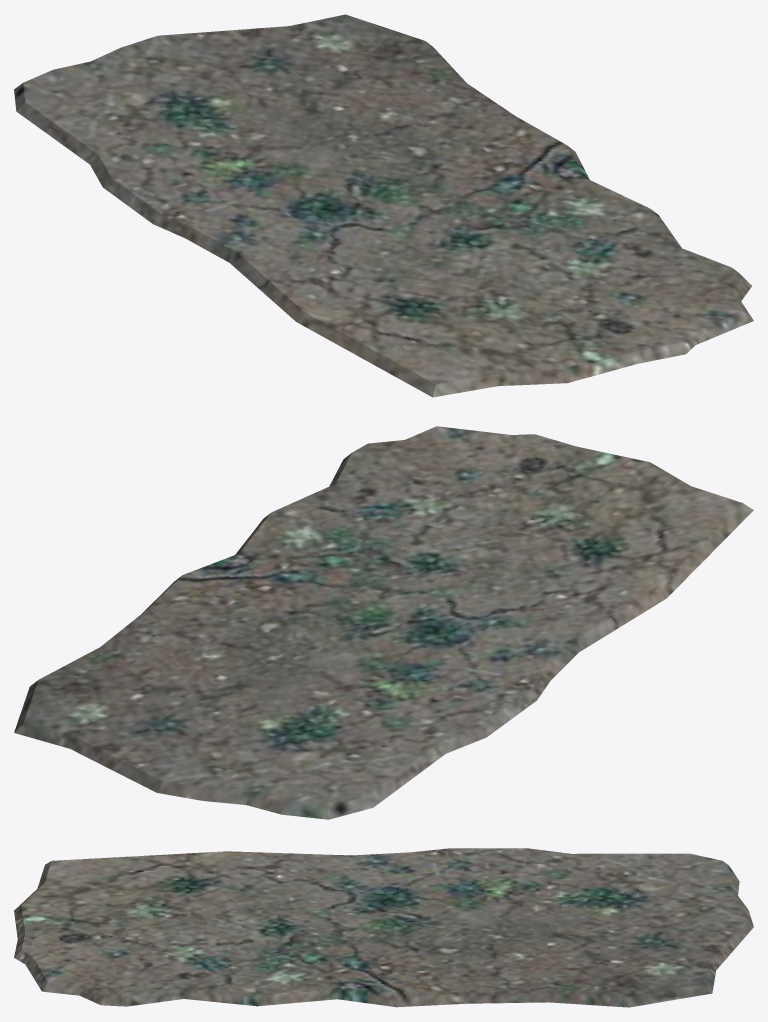
Rendered from cf_area_collision.obj.
The picture shows the model from 3 angles, top to bottom: view 1: azimuth 30°, elevation 25°; view 2: azimuth 150°, elevation 25°; view 3: azimuth 270°, elevation 25°; orthographic projection. The views are drawn at different scales.
Visible parts, largest first — view 1: terrain_collision_Plane.003; view 2: terrain_collision_Plane.003; view 3: terrain_collision_Plane.003.
Boxes of the visible parts, x1,y1,x2,y2 form: terrain_collision_Plane.003: (14,14,753,397); terrain_collision_Plane.003: (14,426,753,819); terrain_collision_Plane.003: (14,848,753,1007).
Size of the model in its own units: 9.89 by 0.2 by 19.88.
1 material, 1 textured.
